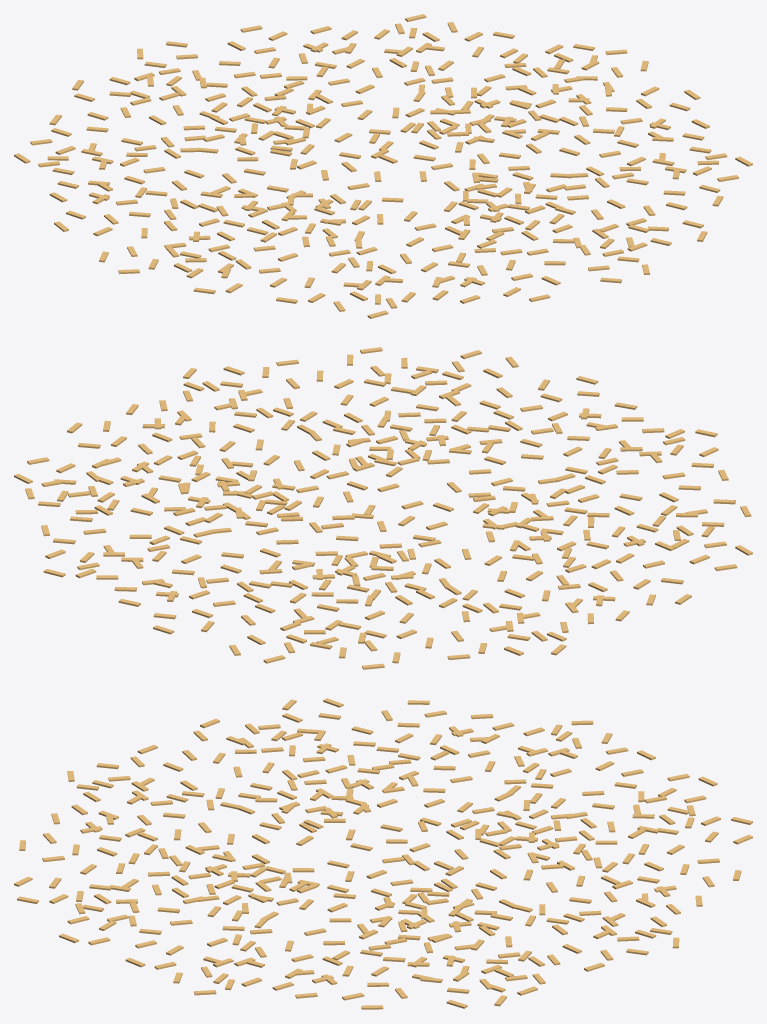
The model's file is elemental.glb.
The picture shows the model from 3 angles, top to bottom: view 1: azimuth 30°, elevation 25°; view 2: azimuth 150°, elevation 25°; view 3: azimuth 270°, elevation 25°; orthographic projection. The views are drawn at different scales.
Visible parts, largest first — view 1: mozzarella1; view 2: mozzarella1; view 3: mozzarella1.
Boxes of the visible parts, x1,y1,x2,y2 form: mozzarella1: [14, 14, 752, 318]; mozzarella1: [14, 347, 752, 669]; mozzarella1: [14, 698, 752, 1009].
Size of the model in its own units: 0.3394 by 0.00086 by 0.3421.
